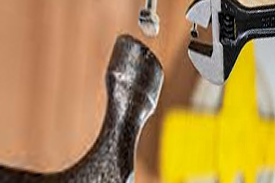Wrench: (183, 1, 275, 85)
